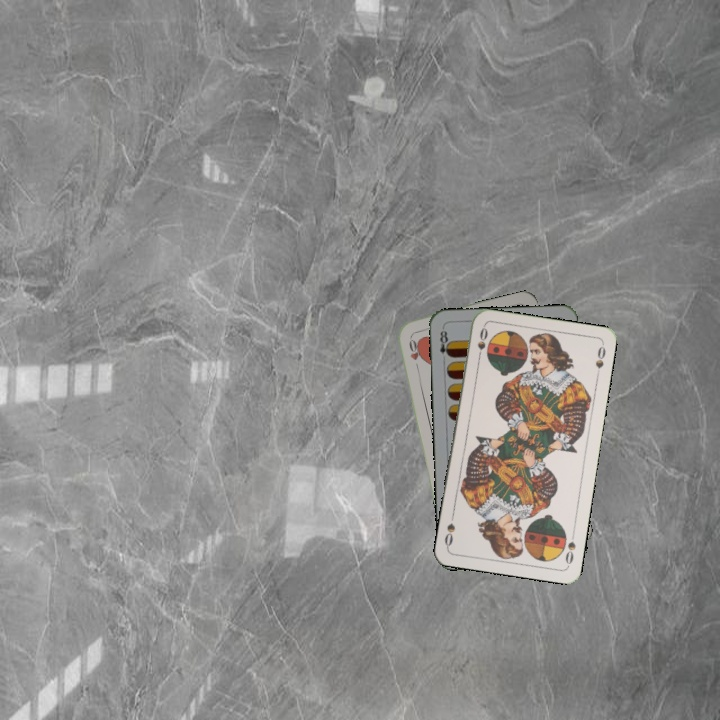E8: (436, 324, 453, 365)
HO: (405, 332, 422, 373)
SO: (473, 323, 490, 363), (561, 527, 578, 567)
